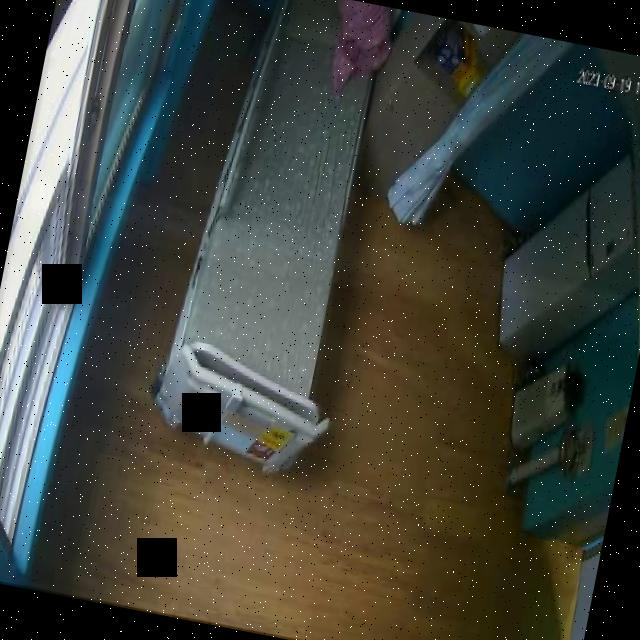bed: (147, 0, 408, 480)
